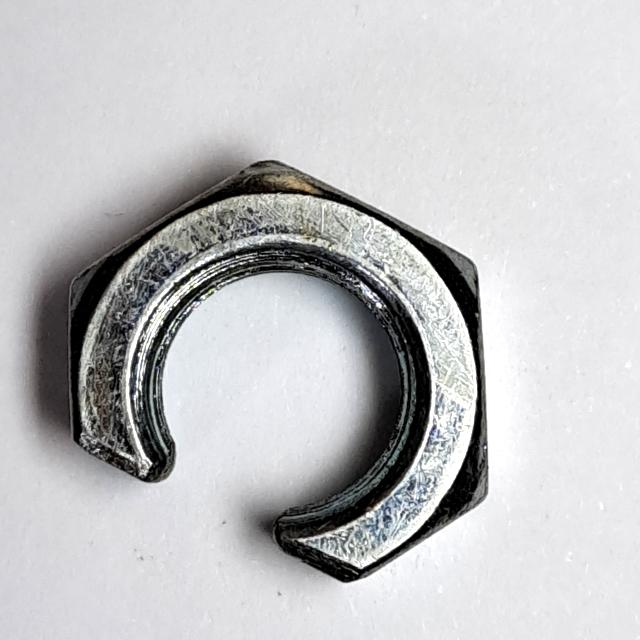Fracture: (49, 141, 514, 612)
